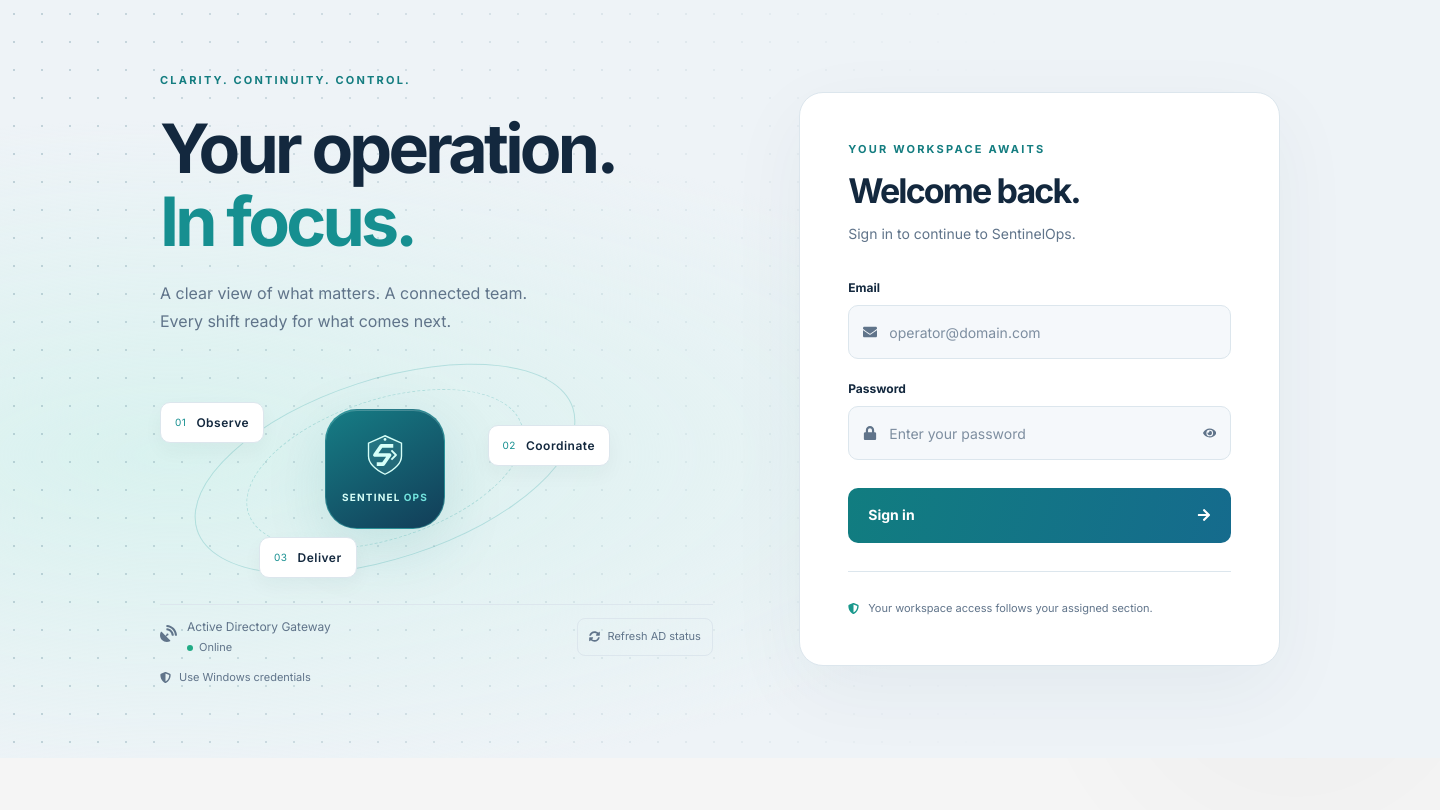
it: redesigned login preserves authentication and reports failure accessibly
The width and height of the screenshot is (1440, 810).
Step 1. Type "operator@example.test" into the field labelled "Email" → (1053, 332), box [889,306,1216,358]
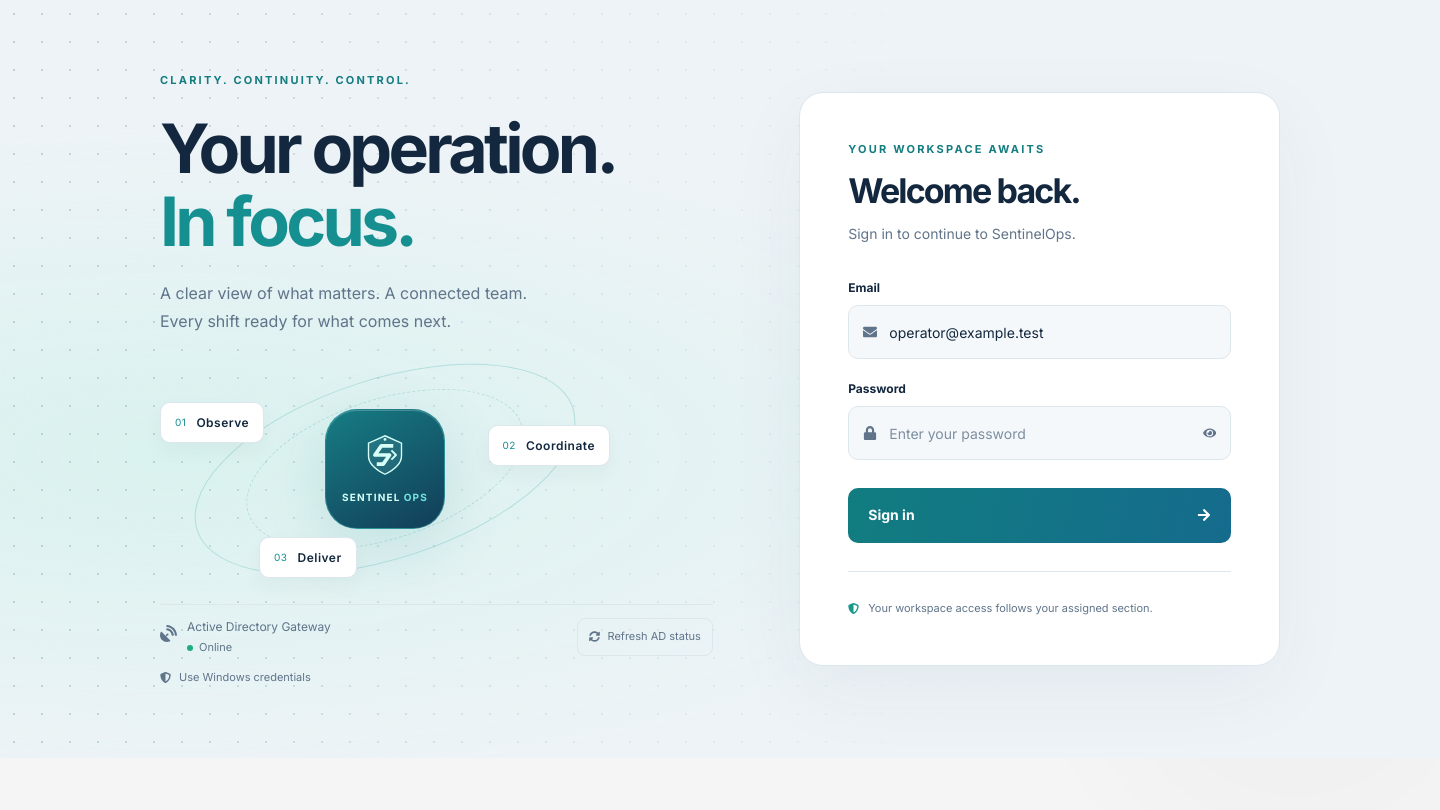
Step 2. Type "test-only-password" into the password field labelled "Password" → (1038, 433), box [889,407,1187,459]
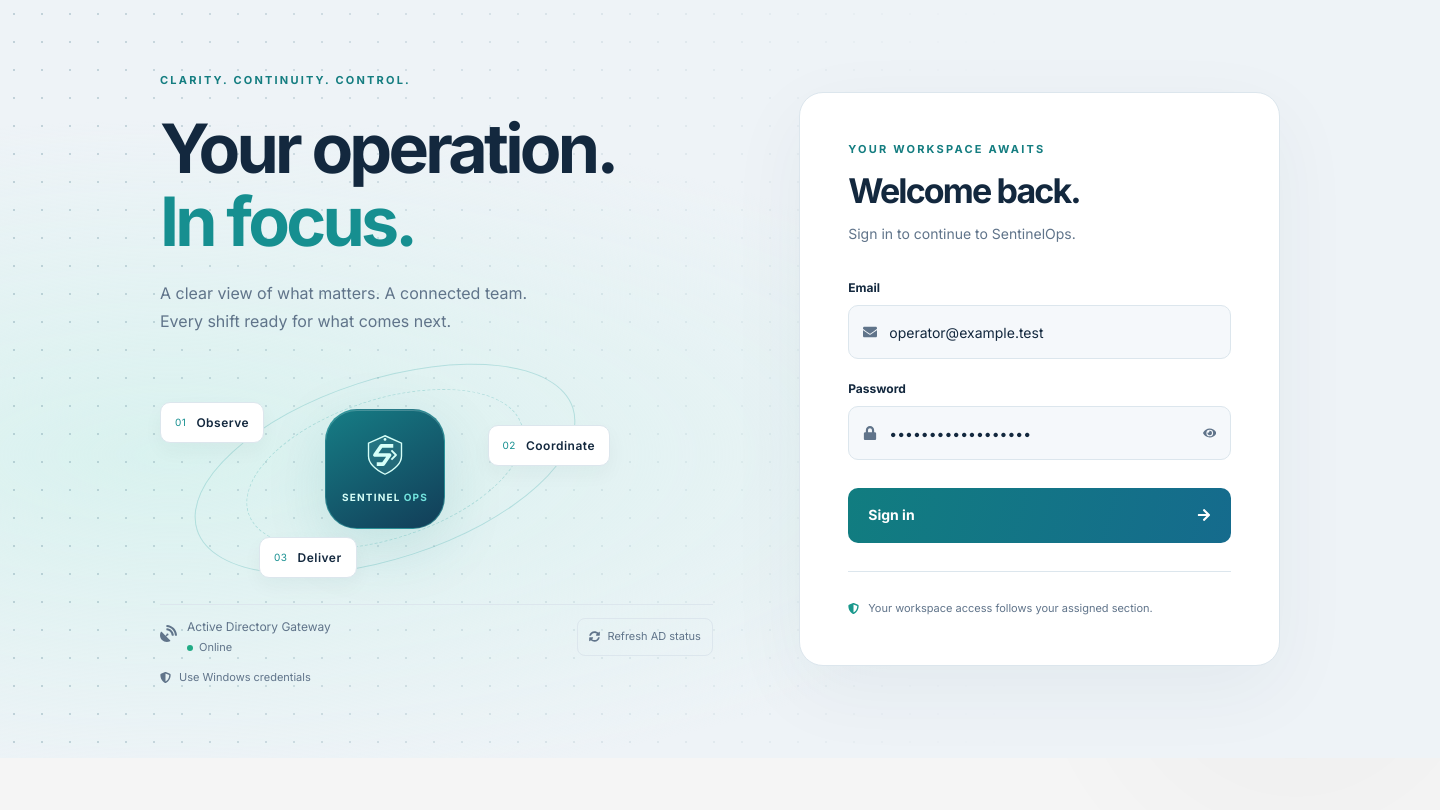
Step 3. Click the button named "Show password" → (1207, 433), box [1198,417,1216,449]
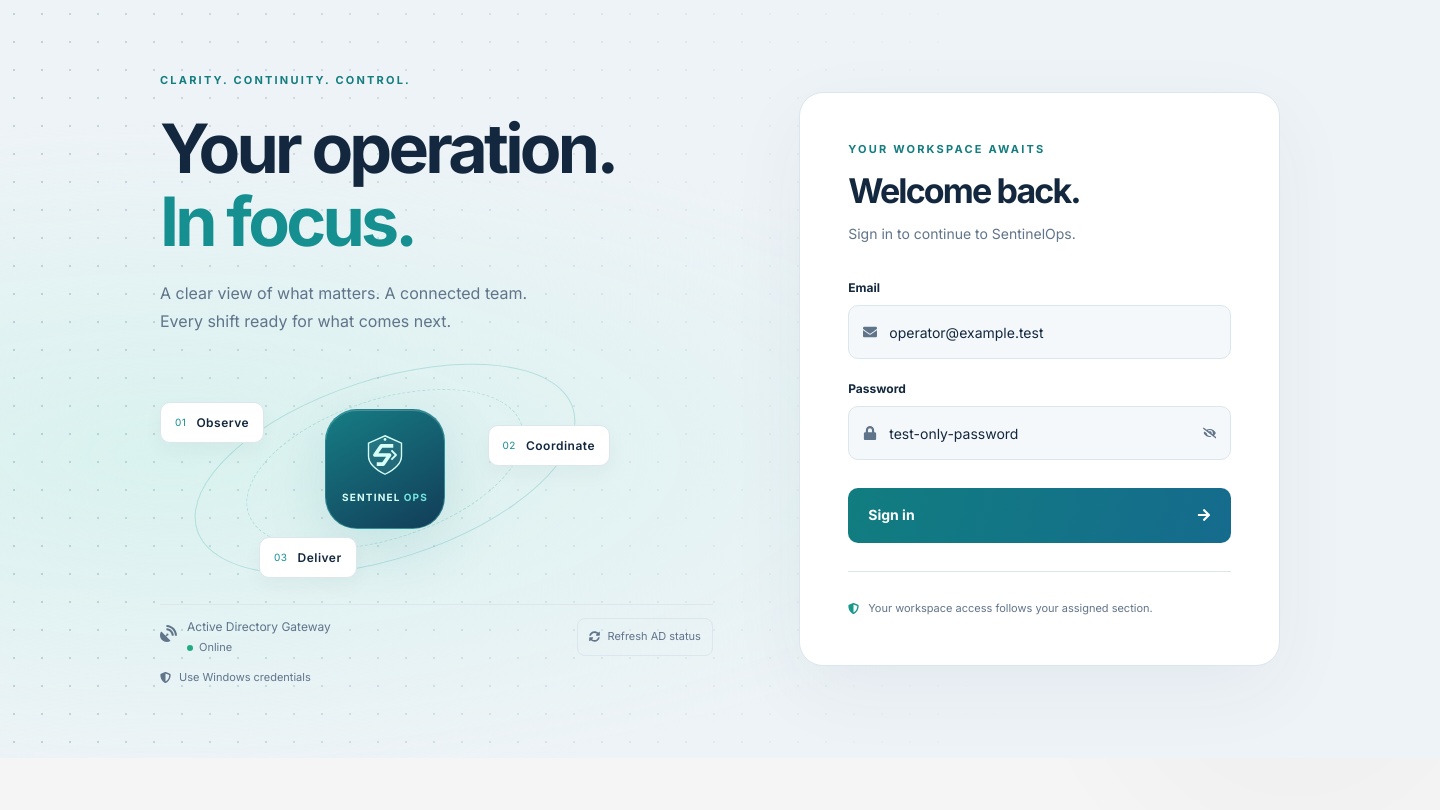
Result: the field labelled "Password" shows its text at [889,407,1187,459]
Step 4. Click the button named "Hide password" → (1207, 433), box [1198,417,1216,449]
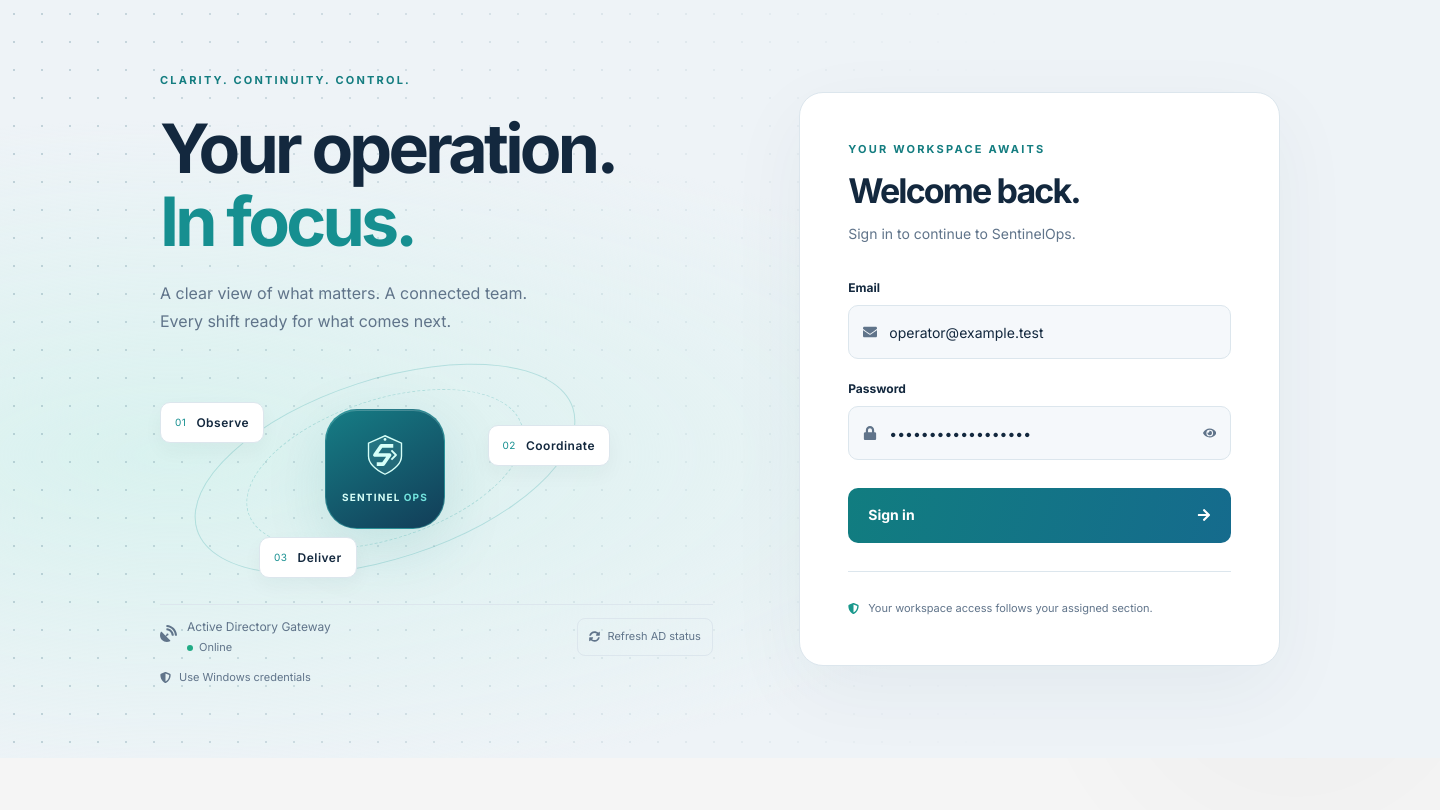
Step 5. Click the button "Sign in" → (891, 515), box [848,488,1231,543]
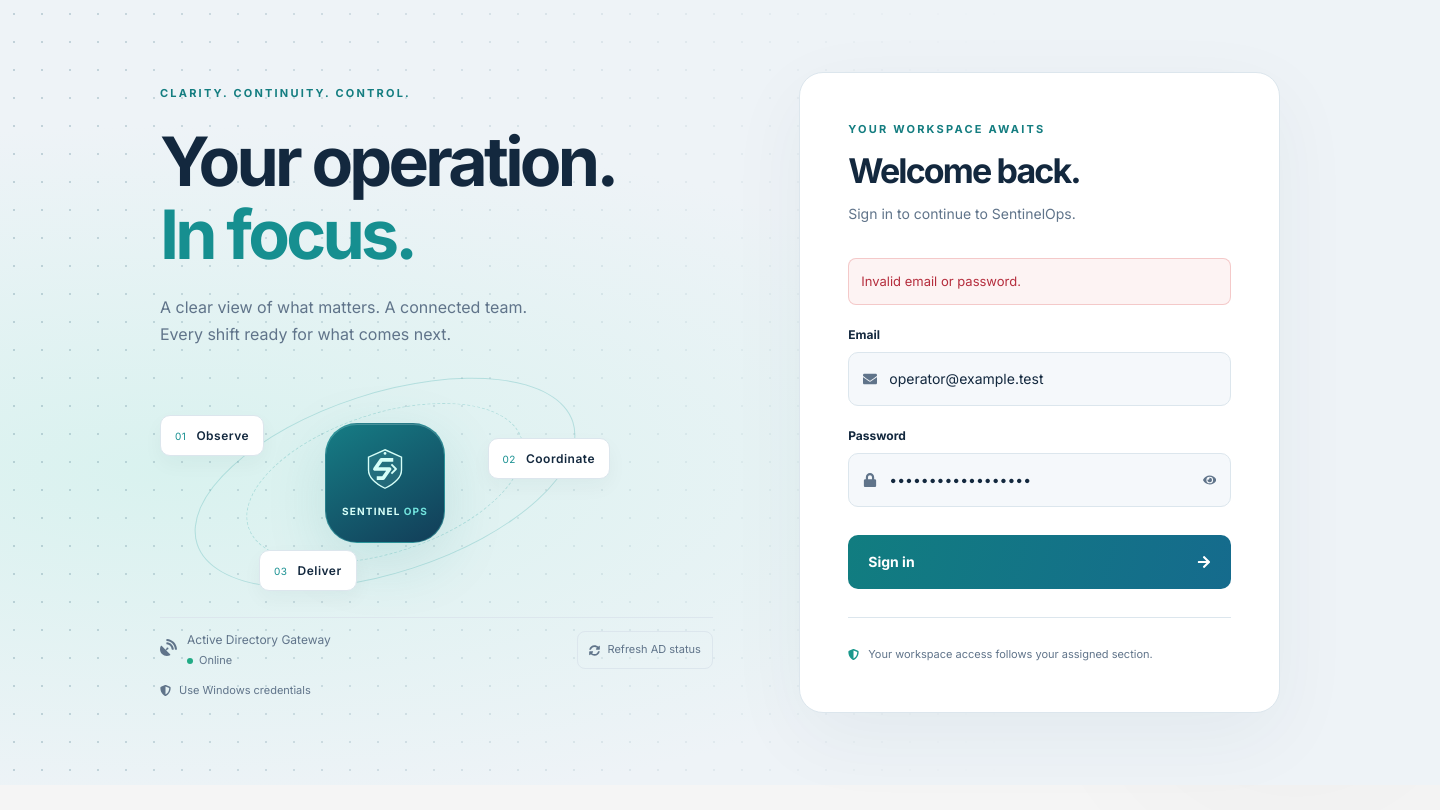
Result: the message shows "Invalid email or password" at [861,273,1021,289]
